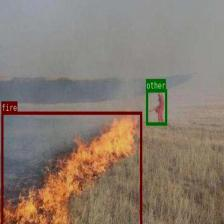fire: (1, 111, 141, 224)
